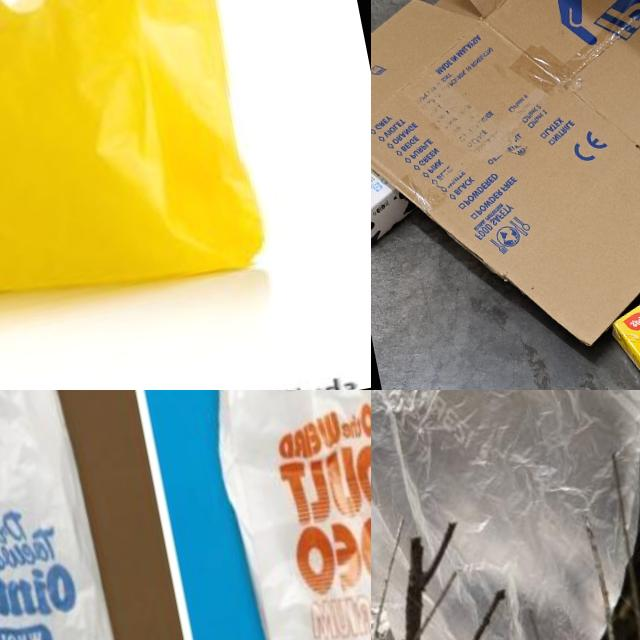caixinha: (371, 131, 413, 258)
papelão: (371, 0, 640, 390)
sacola plástica: (0, 0, 277, 349), (371, 390, 640, 640), (176, 390, 371, 640), (0, 390, 161, 640)
